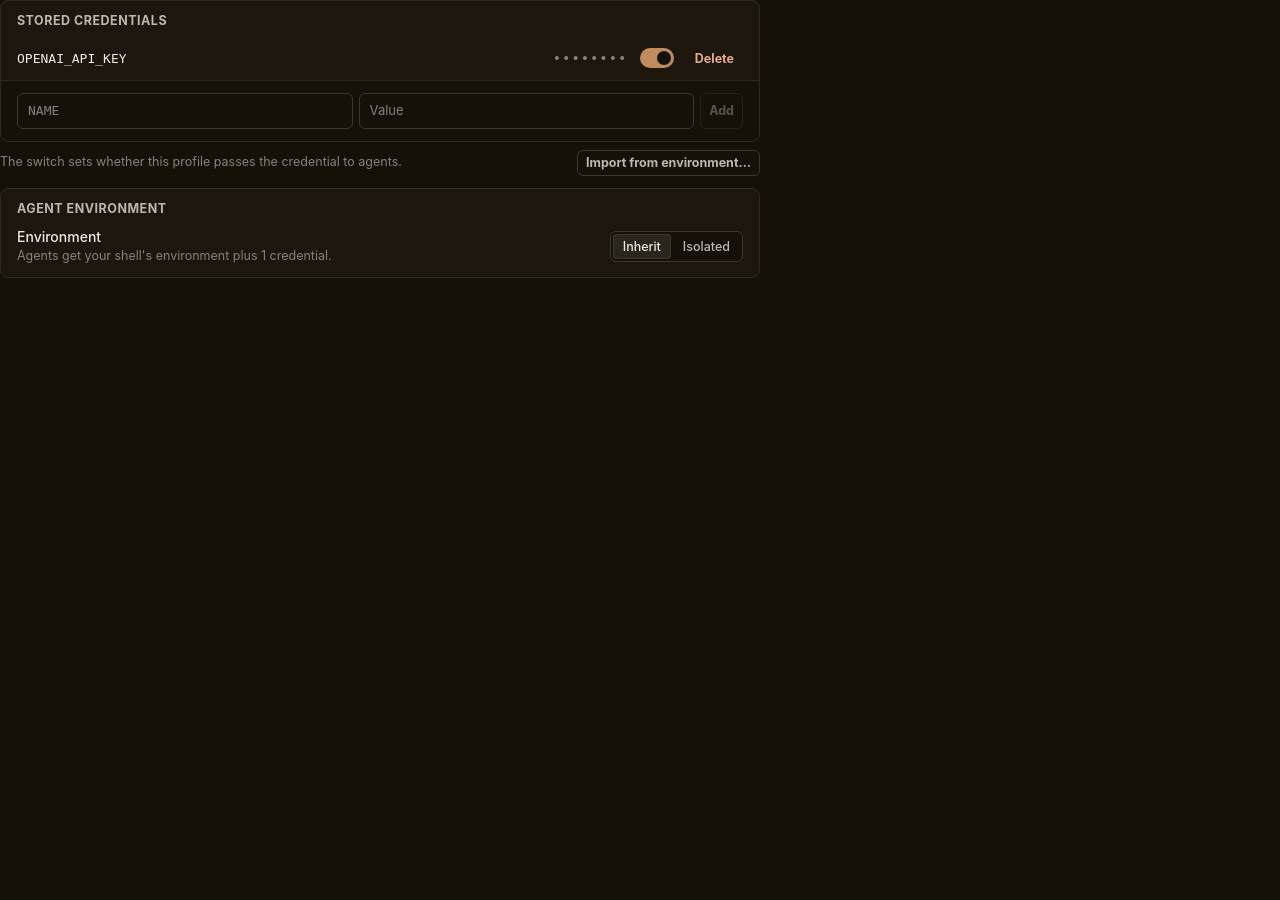
Test: CredentialsSection › delete confirmation names the profiles bound to the credential
Expected: the text "OPENAI_API_KEY" is shown, [17,50,127,66]
Click the button "Delete".
click(714, 58)  # box [686,45,743,71]
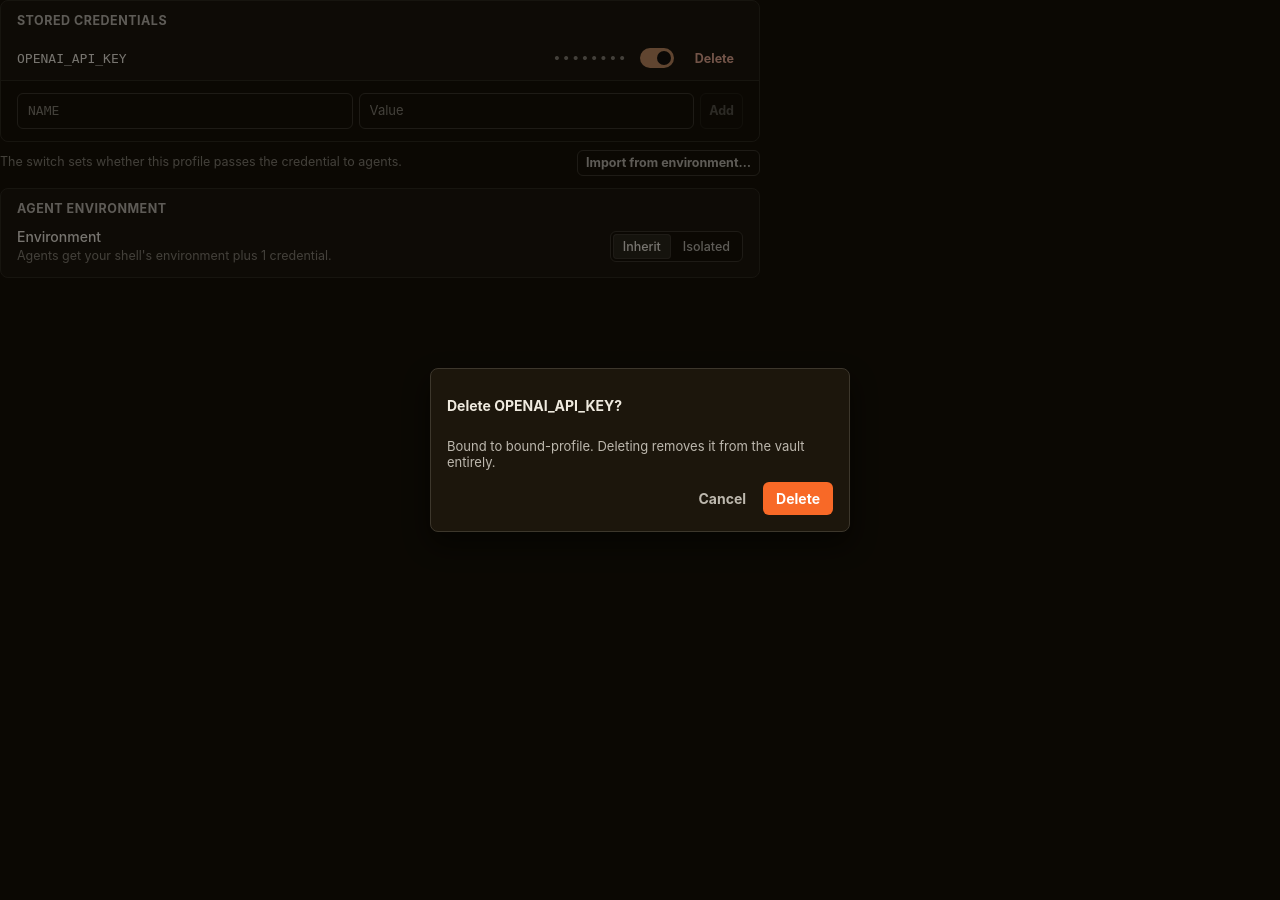
Now the text "bound-profile" is shown, box [447,438,805,470]
